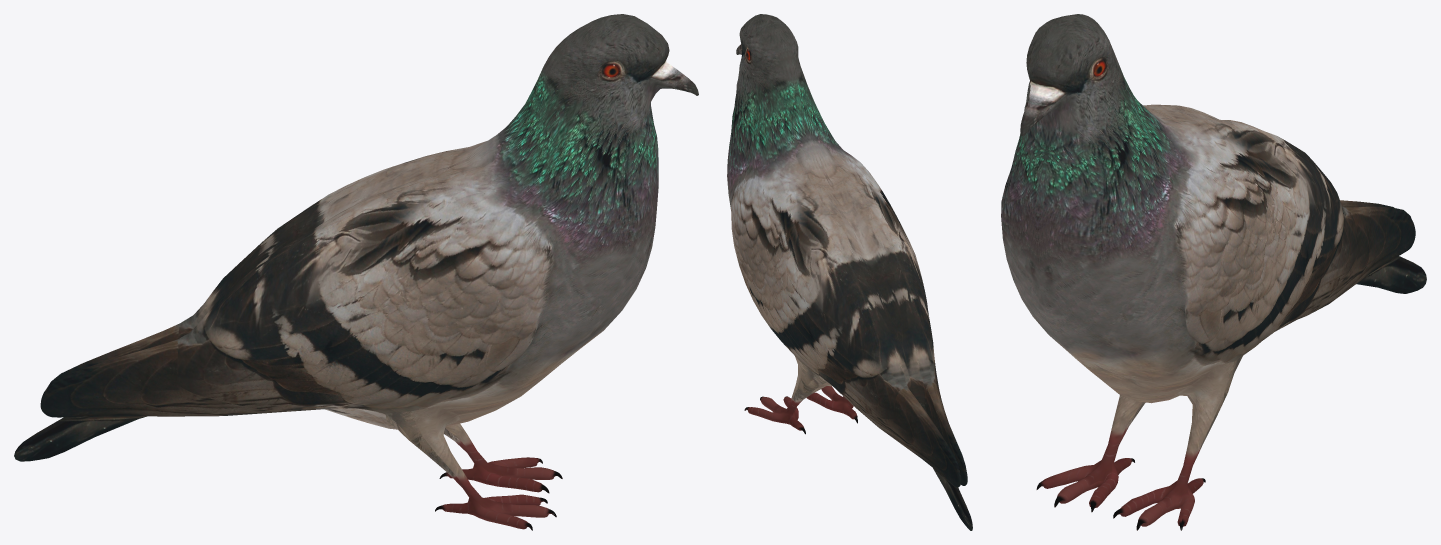
File: pigeon.glb
The picture shows the model from 3 angles, left to right: view 1: azimuth 30°, elevation 25°; view 2: azimuth 150°, elevation 25°; view 3: azimuth 270°, elevation 25°; orthographic projection. The views are drawn at different scales.
Parts seen in each view (by area): view 1: Material0-material; view 2: Material0-material; view 3: Material0-material.
Part boxes in pixels (box(x1,y1,x2,y2)): Material0-material: box(14, 14, 698, 530); Material0-material: box(727, 14, 972, 530); Material0-material: box(1001, 14, 1426, 530).
Size of the model in its own units: 0.4382 by 0.4046 by 0.2962.
1 material, 1 textured.
